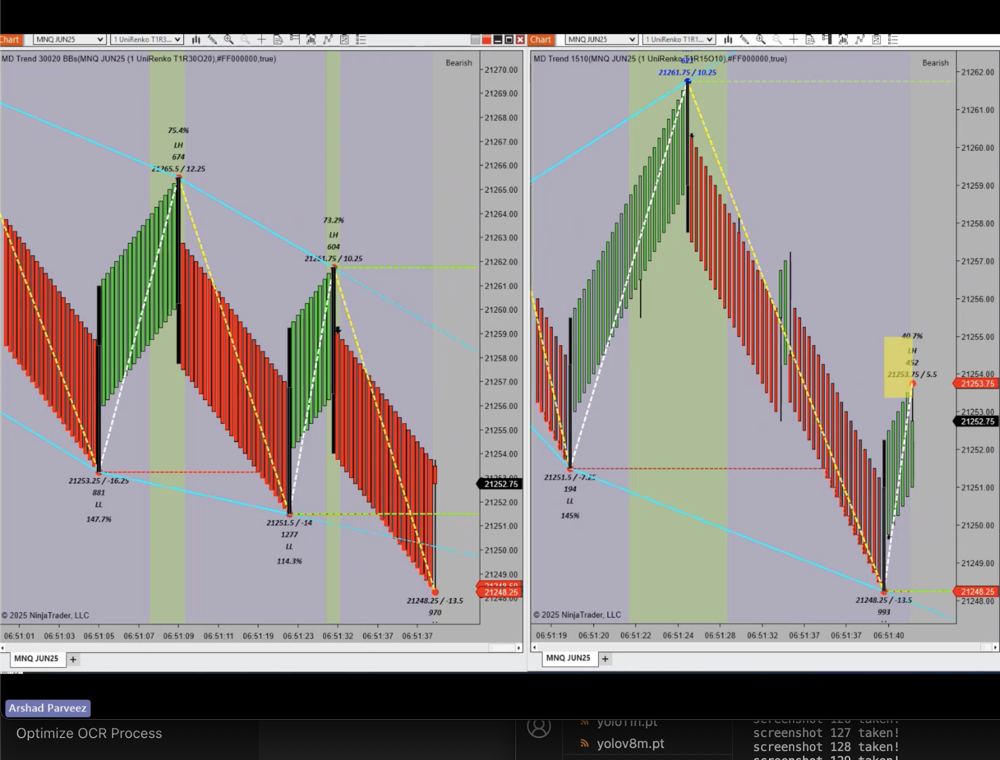LH: (164, 138, 191, 155), (903, 342, 924, 362), (324, 227, 344, 244)
LL: (557, 490, 581, 511), (279, 538, 301, 557), (88, 498, 110, 513)
